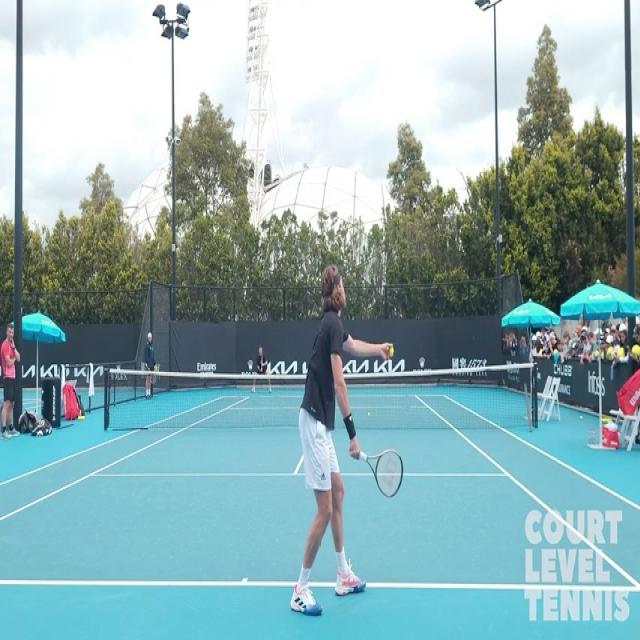serve_ready: (293, 269, 402, 616)
